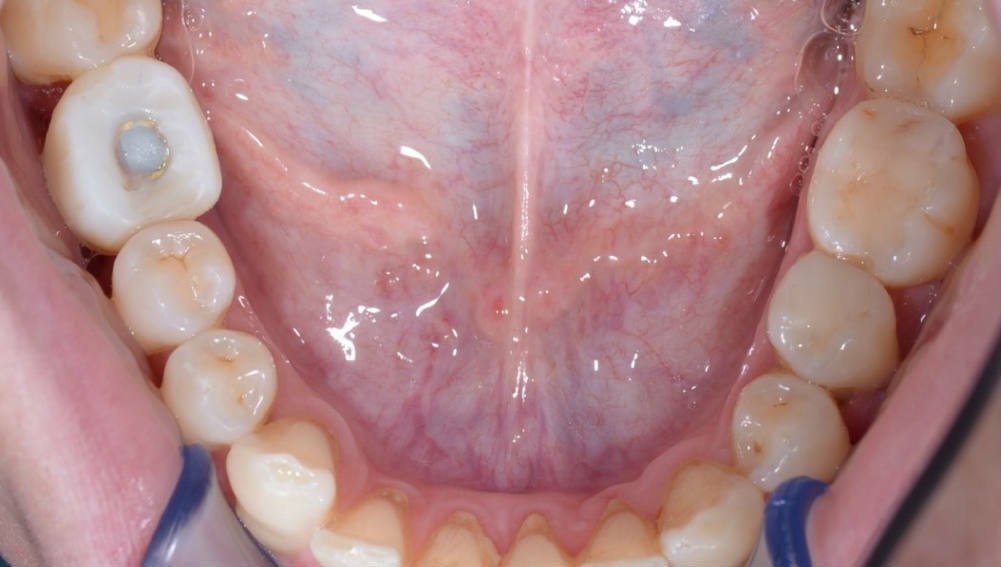LL1BC_decay: (731, 373, 853, 486)
LL1M_healthy: (801, 96, 968, 289)
LL2BC_healthy: (761, 253, 913, 394)
LL2M_decay: (840, 1, 1001, 121)
LLCI_healthy: (499, 513, 571, 567)
LLC_healthy: (658, 460, 765, 567)
LLLI_healthy: (570, 498, 664, 567)
LR1BC_decay: (162, 328, 279, 441)
LR1M_decay: (43, 57, 226, 236)
LR2BC_decay: (112, 214, 235, 344)
LR2M_decay: (1, 1, 168, 59)
LRCI_healthy: (412, 509, 499, 567)
LRC_healthy: (225, 415, 334, 539)
LRLI_healthy: (310, 488, 412, 567)
